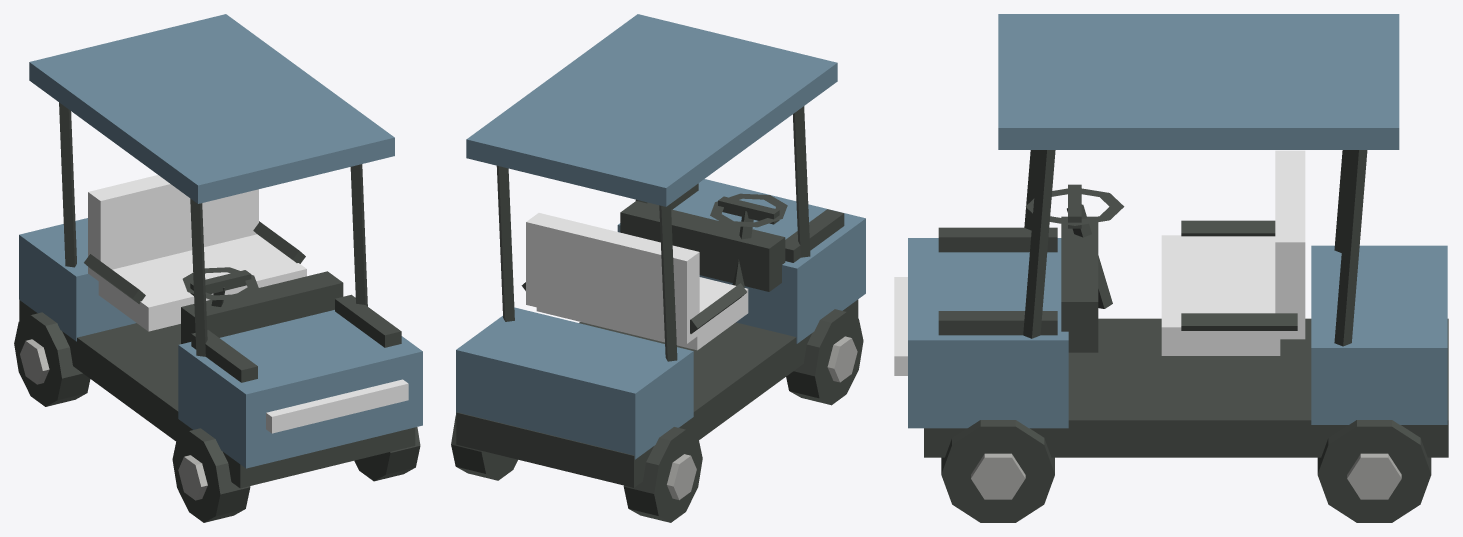
Rendered from golf_cart_02.glb.
3 views of the same model, side by side, from view 1: azimuth 30°, elevation 25°; view 2: azimuth 150°, elevation 25°; view 3: azimuth 270°, elevation 25° (orthographic). The views are drawn at different scales.
Parts seen in each view (by area): view 1: Golf_cart_02; view 2: Golf_cart_02; view 3: Golf_cart_02.
Part boxes in pixels (x1,y1,x2,y2): Golf_cart_02: (14, 14, 422, 522); Golf_cart_02: (451, 14, 865, 522); Golf_cart_02: (894, 14, 1448, 522).
Size of the model in its own units: 1.22 by 1.82 by 2.32.
